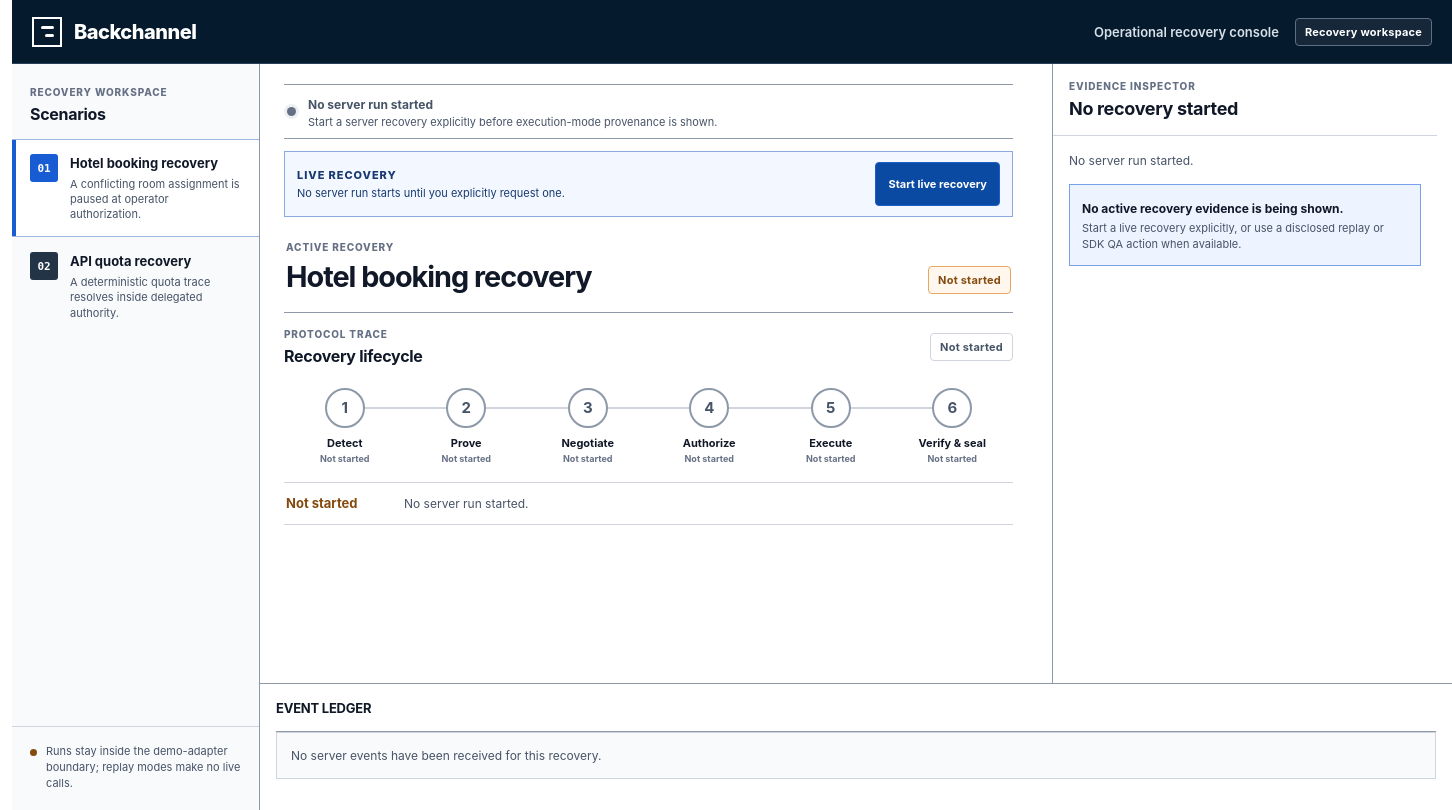
Scenario: browser recovery-creation idempotency › surfaces idempotency_conflict without automatic retry, fallback, or key leakage
Click the button "Start live recovery". click: coordinates (938, 184)
box: 876,162 -> 1000,206
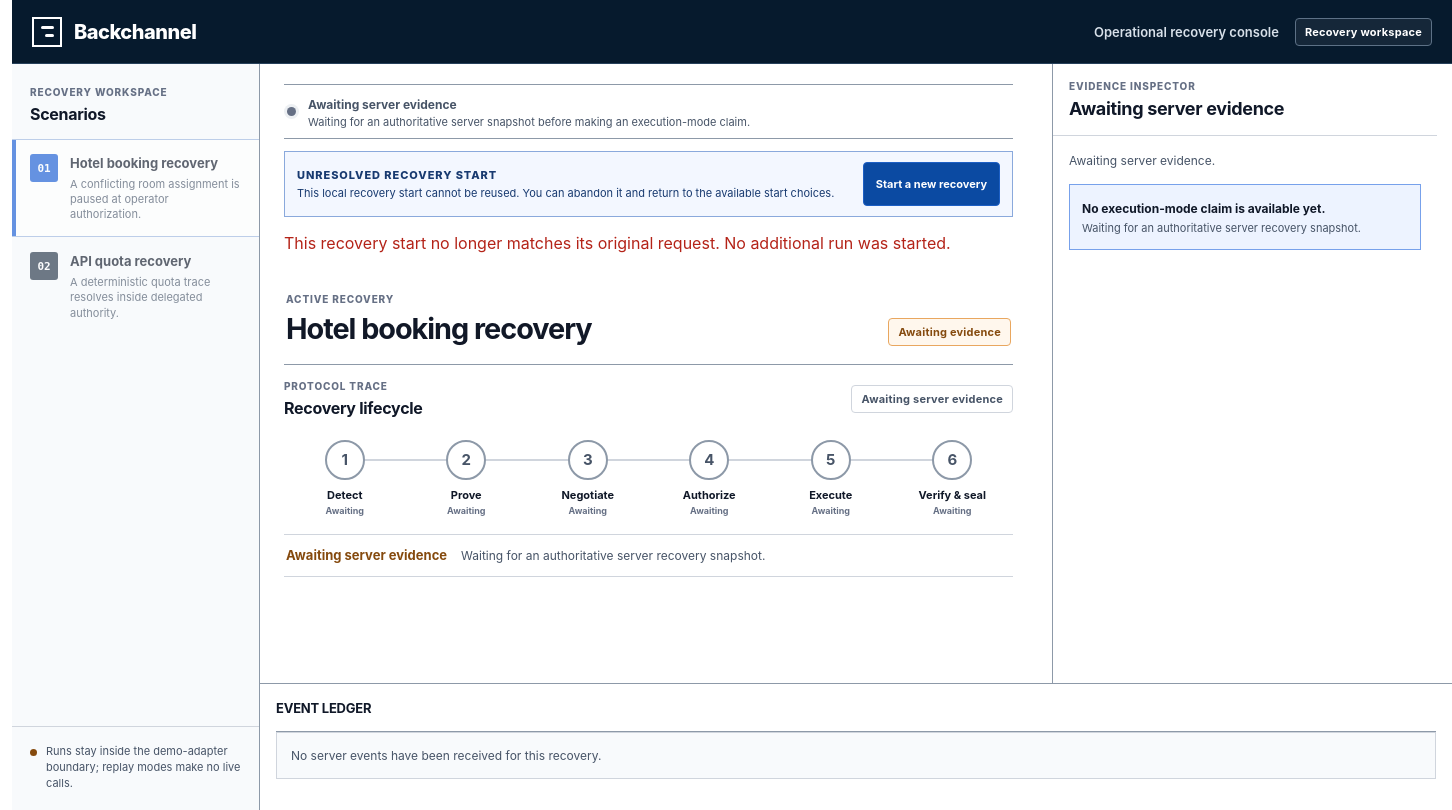
Expected: the message shows "This recovery start no longer matches its original request. No additional run was started.", 284,233 -> 951,253
